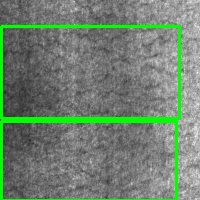crazing: (1, 26, 179, 118), (1, 121, 176, 200)
